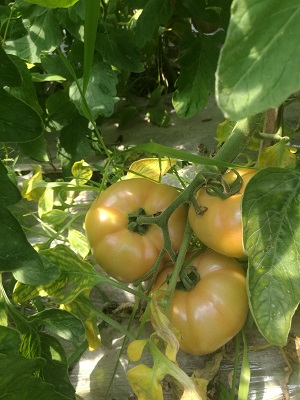semi-mature-tomato: (149, 252, 255, 356), (84, 177, 189, 278), (190, 167, 282, 257)
